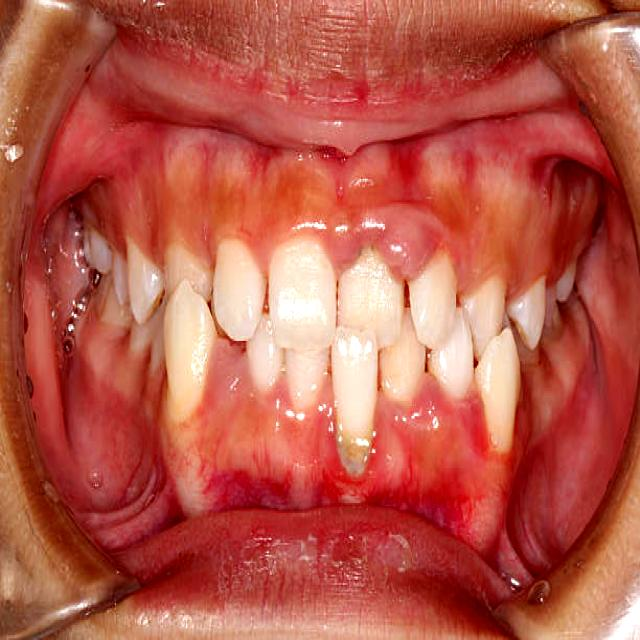gingivitis: (155, 346, 513, 523), (117, 192, 558, 289)
